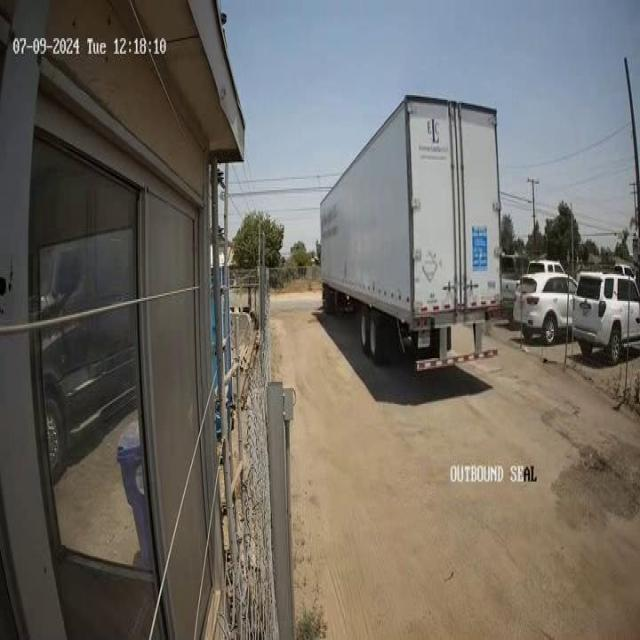TRUCK_CONTAINER: (315, 92, 504, 371)
